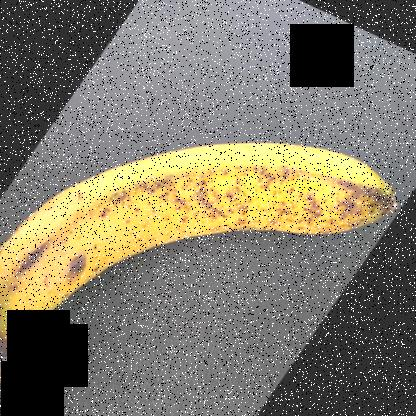ripe: (0, 127, 415, 376)
